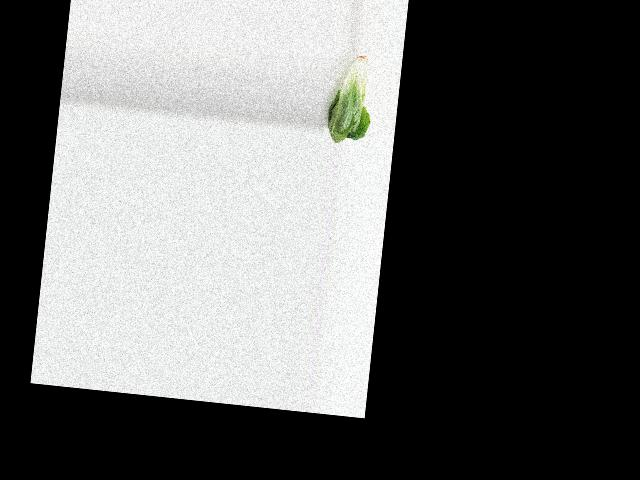lettuce: (322, 48, 378, 146)
